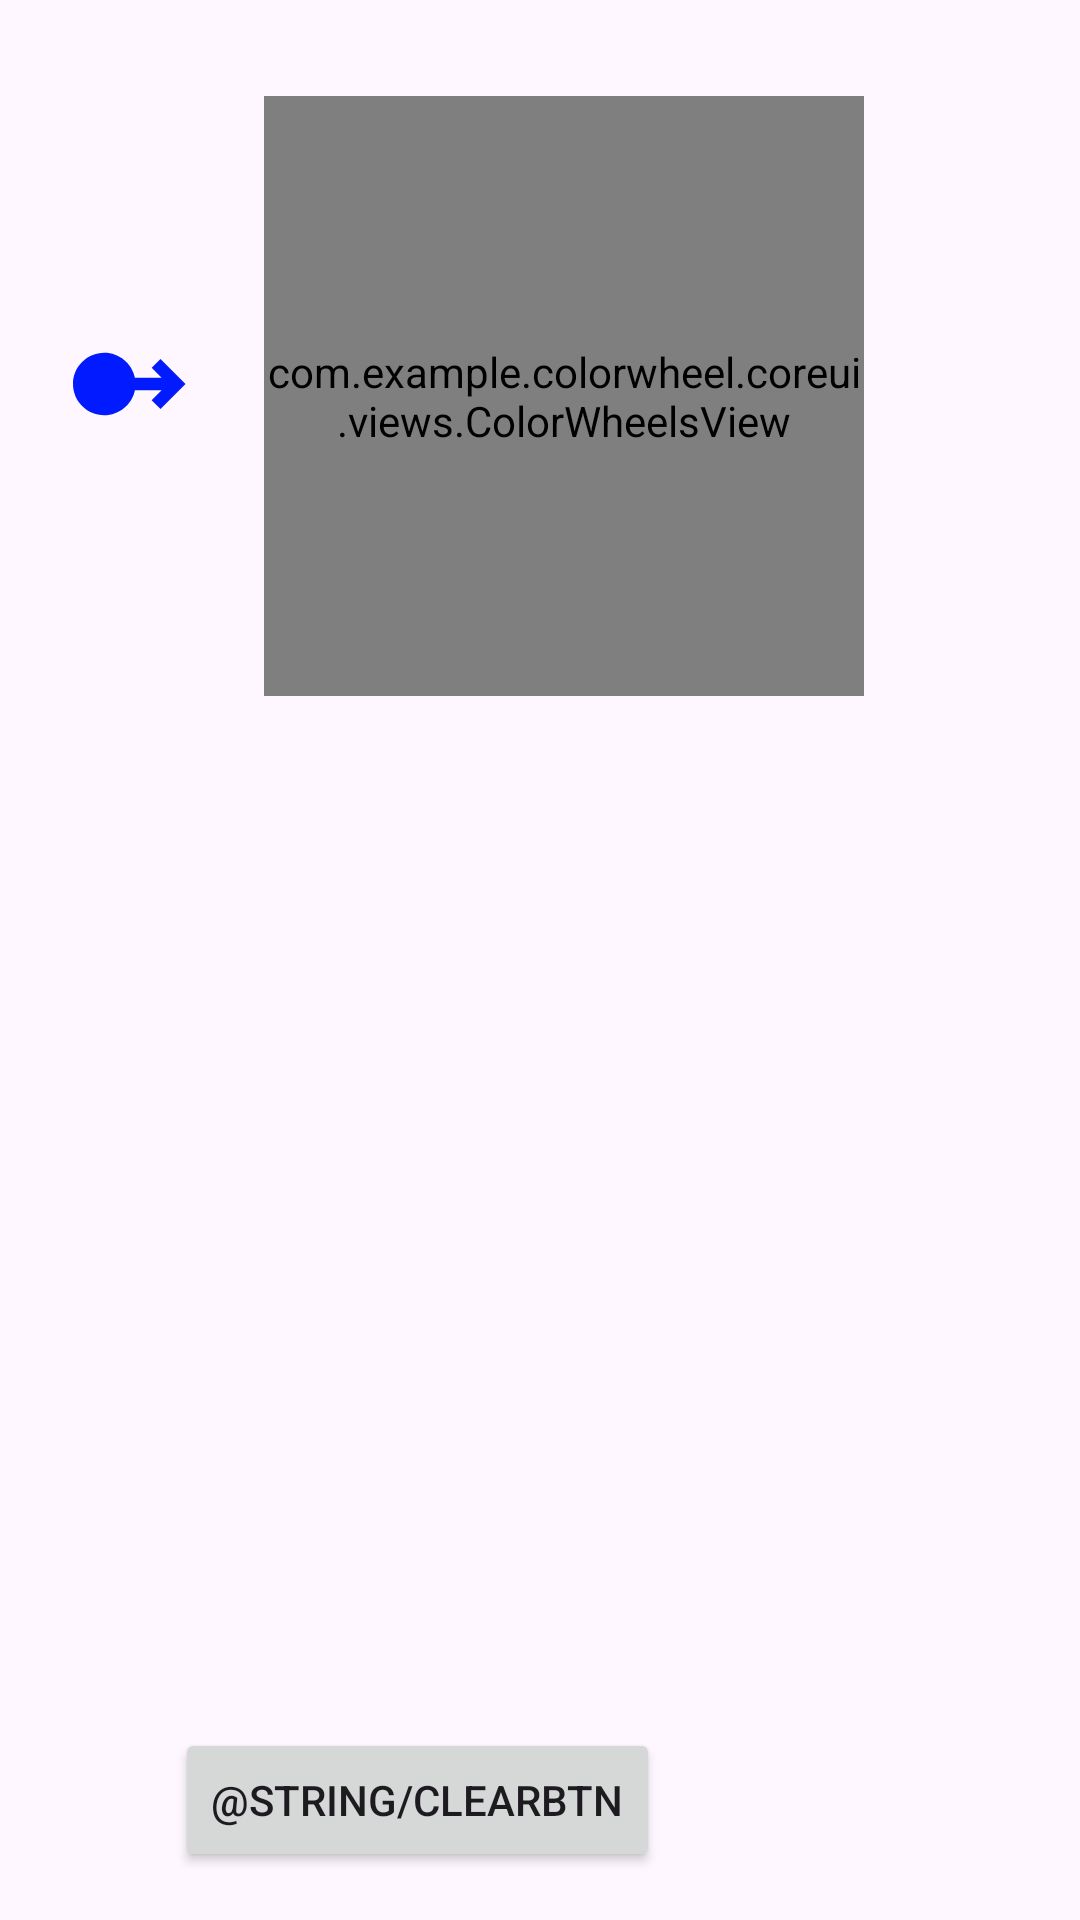

Screen size 1080px x 1920px. Icon name, then its box in pixels as (x1, y1, x2, y2):
swipe right: (73, 352, 186, 416)
